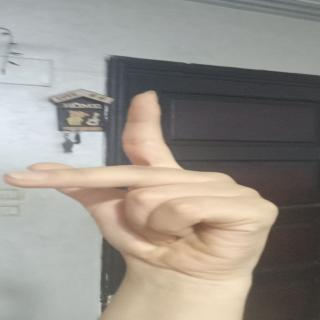DHAA: (6, 91, 294, 266)
